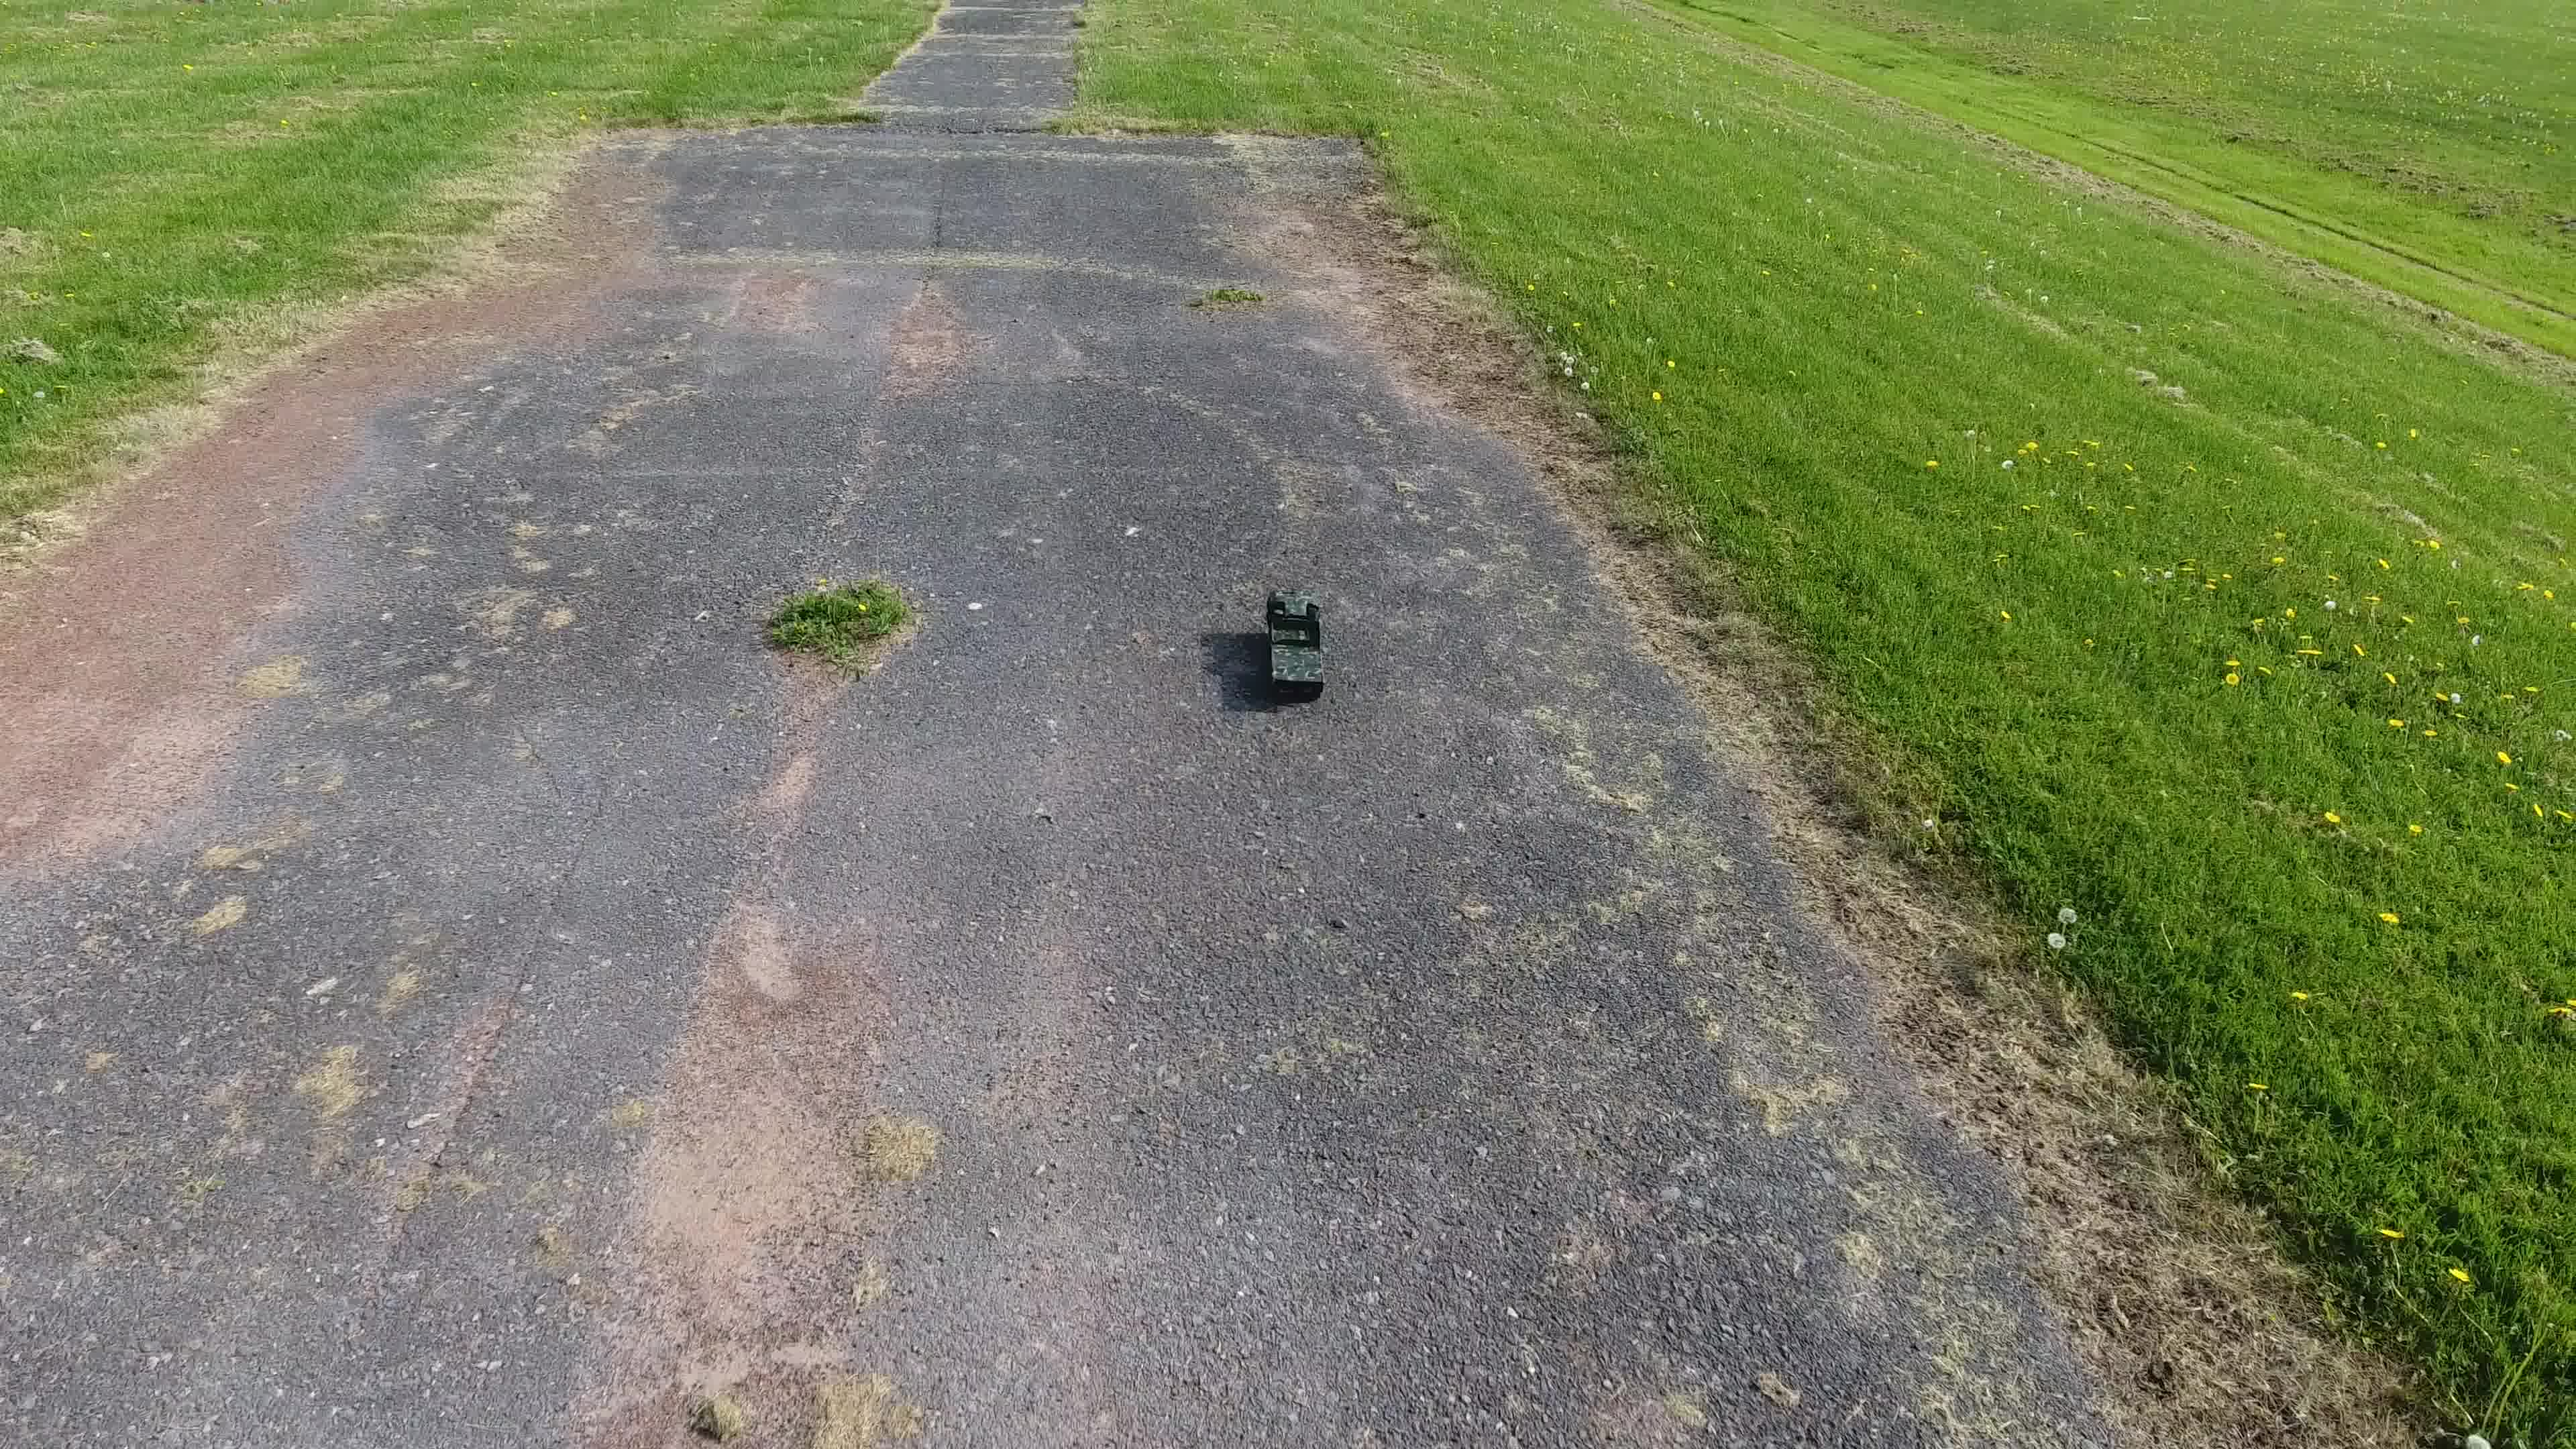transporter9: (1263, 587, 1330, 697)
